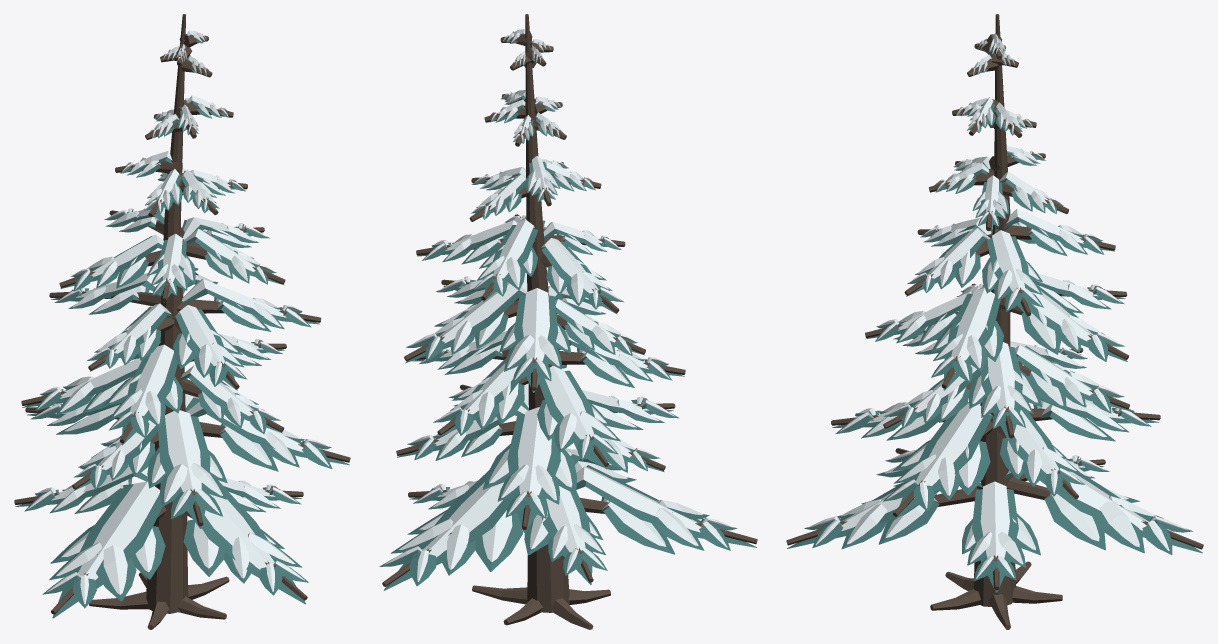
File: TREE_11_FirSmallSnowy.glb
3 renders of one model, left to right at view 1: azimuth 30°, elevation 25°; view 2: azimuth 150°, elevation 25°; view 3: azimuth 270°, elevation 25°, orthographic.
Parts seen in each view (by area): view 1: TREE_11_FirSmallSnowy; view 2: TREE_11_FirSmallSnowy; view 3: TREE_11_FirSmallSnowy.
Part boxes in pixels (x1=…): TREE_11_FirSmallSnowy: x1=14, y1=14, x2=350, y2=629; TREE_11_FirSmallSnowy: x1=379, y1=14, x2=757, y2=629; TREE_11_FirSmallSnowy: x1=786, y1=14, x2=1203, y2=629.
Bounding box in the file's own units: 2.31 × 4.32 × 2.75.
